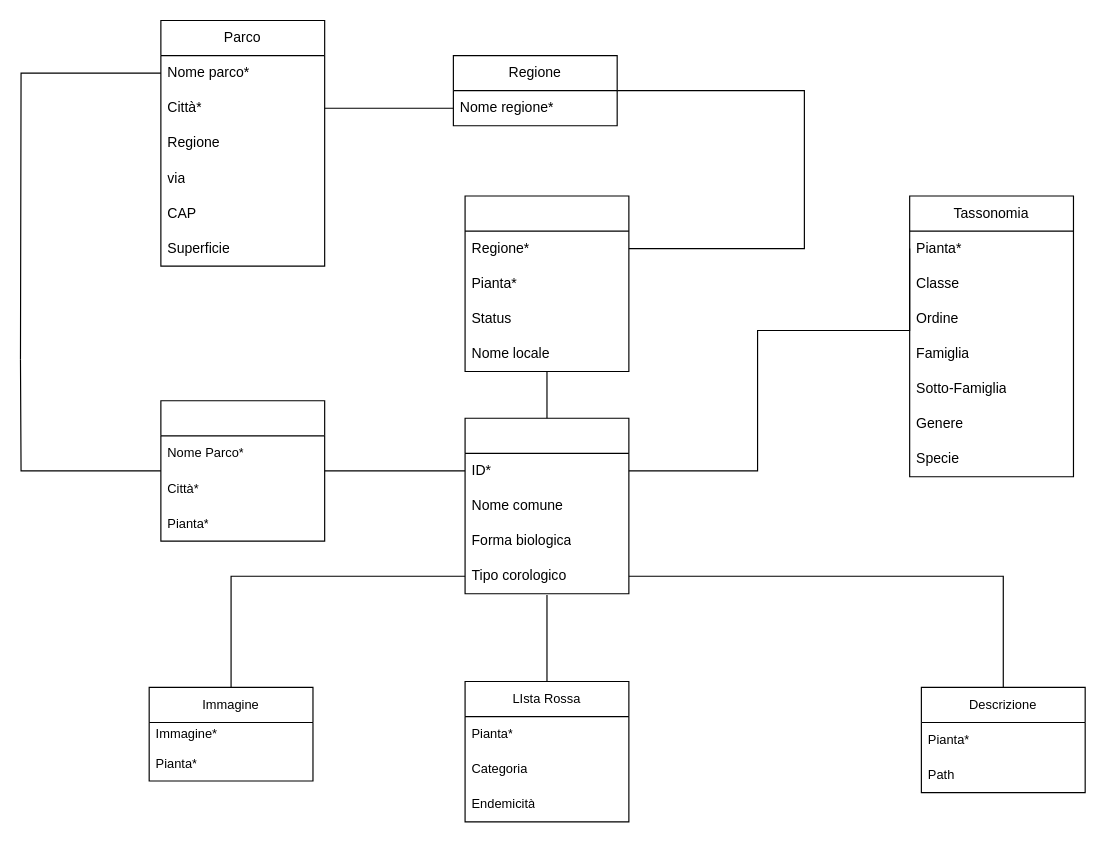
Some shapes in this 1106 by 842 pixel diagram are drawn without their labels. Each missing label, with the box of its shape:
Conservazione: (160, 400, 325, 541)
Distribuzione: (464, 195, 629, 371)
Pianta: (464, 417, 629, 594)
